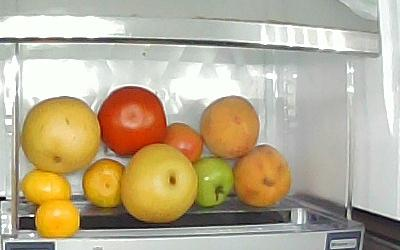peach: (201, 95, 262, 158), (233, 145, 293, 207)
pear: (121, 144, 199, 222), (22, 97, 100, 175)
tangerine: (84, 159, 126, 209), (35, 200, 81, 239), (21, 170, 72, 204)
tomato: (99, 86, 166, 156), (194, 156, 233, 207), (166, 122, 205, 161)
